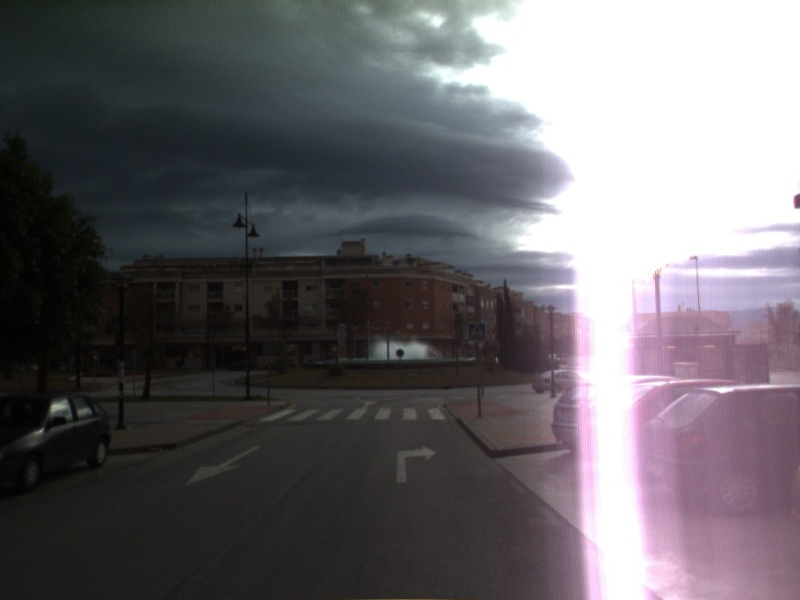RIGHT: (394, 442, 438, 485)
